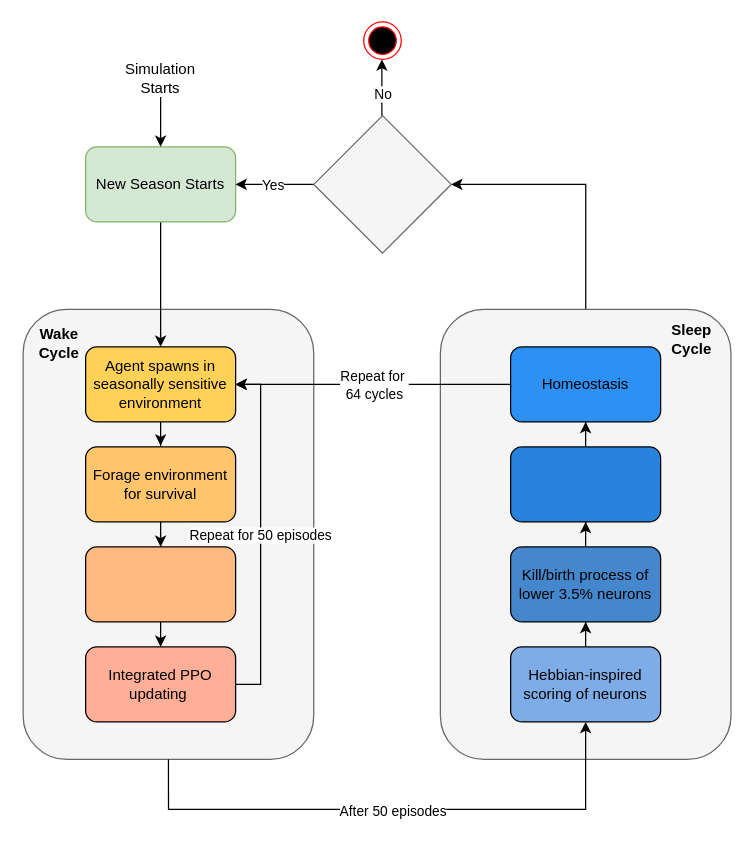
The diagram is 753 pixels wide and 841 high, and some of its shapes have lost their labels. The shapes that lost their labels are listed below. From the top down, each one's box as (x1, y1, x2, y2) in pixels, then its label:
(312, 114, 451, 253): Are there seasons left?
(509, 446, 661, 522): Gating
(84, 546, 236, 622): Episode ends: rewards processed
